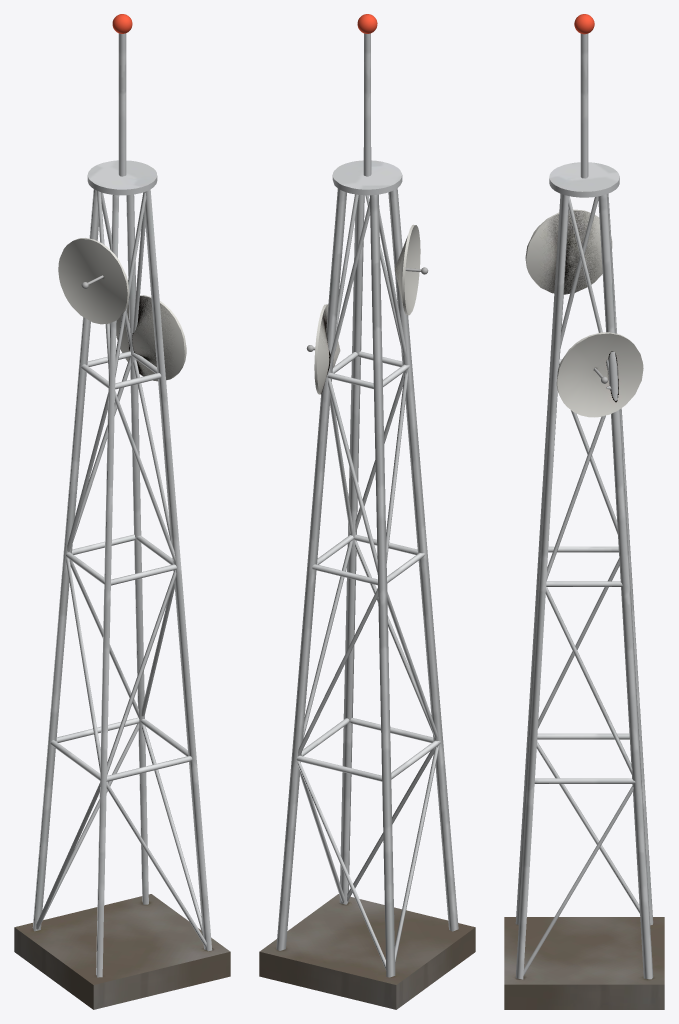
File: tower.glb
3 views of the same model, side by side, from view 1: azimuth 30°, elevation 25°; view 2: azimuth 150°, elevation 25°; view 3: azimuth 270°, elevation 25° (orthographic).
Visible parts, largest first — view 1: tower; view 2: tower; view 3: tower.
Boxes of the visible parts, <box> form: tower: <box>14,14,230,1009</box>; tower: <box>259,14,475,1009</box>; tower: <box>504,14,664,1009</box>.
Size of the model in its own units: 1.5 by 9.93 by 1.5.
Materials: 5 (4 with a texture image).
